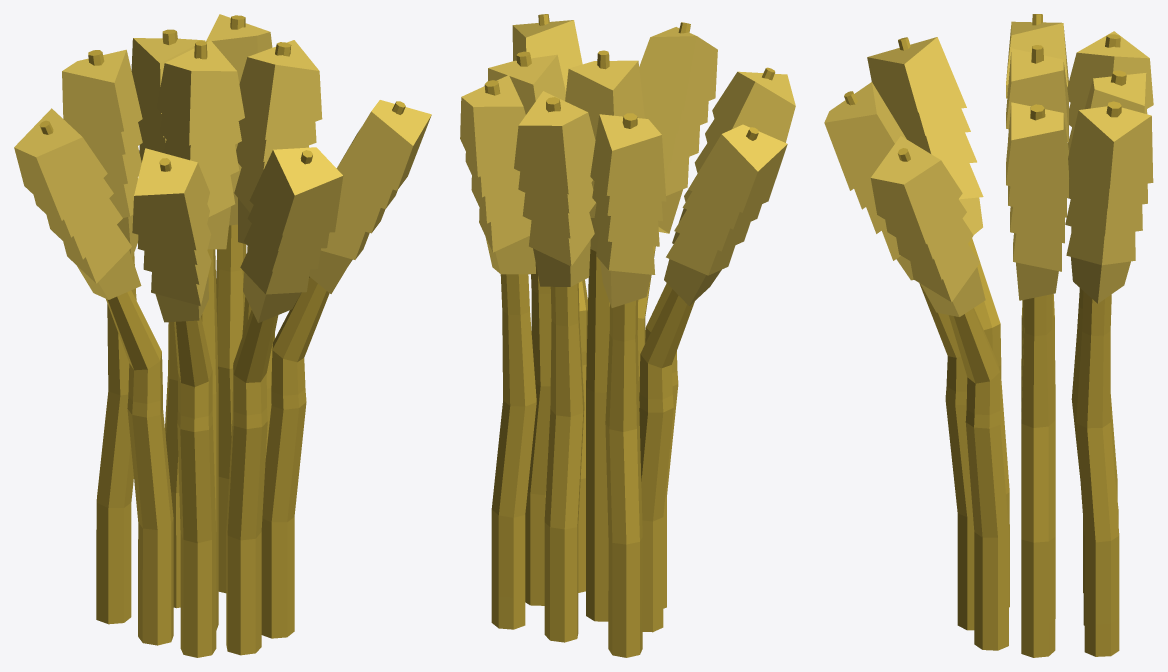
The model's file is Trigo.fbx.
3 renders of one model, left to right at view 1: azimuth 30°, elevation 25°; view 2: azimuth 150°, elevation 25°; view 3: azimuth 270°, elevation 25°, orthographic. The views are drawn at different scales.
Visible parts, largest first — view 1: Cylinder.003, Cylinder.006, Cylinder.004, Cylinder.007, Cube.007, Cylinder.005, Cube.006, Cube.005, Cube.004; view 2: Cube.004, Cube.007, Cube.005, Cylinder.003, Cylinder.005, Cylinder.006, Cube.006, Cylinder.004, Cylinder.007; view 3: Cube.005, Cylinder.007, Cube.006, Cylinder.006, Cylinder.004, Cylinder.005, Cube.007, Cube.004, Cylinder.003.
Part boxes in pixels (left/top/right/bottom): Cylinder.003: left=14, top=108, right=173, bottom=645; Cylinder.006: left=226, top=147, right=343, bottom=655; Cylinder.004: left=132, top=148, right=216, bottom=657; Cylinder.007: left=261, top=100, right=431, bottom=638; Cube.007: left=62, top=49, right=142, bottom=624; Cylinder.005: left=157, top=40, right=244, bottom=630; Cube.006: left=234, top=40, right=322, bottom=457; Cube.005: left=206, top=14, right=272, bottom=593; Cube.004: left=131, top=29, right=205, bottom=608; Cube.004: left=514, top=91, right=595, bottom=642; Cube.007: left=590, top=113, right=666, bottom=657; Cube.005: left=460, top=75, right=536, bottom=629; Cylinder.003: left=639, top=124, right=787, bottom=632; Cylinder.005: left=565, top=50, right=644, bottom=621; Cylinder.006: left=637, top=22, right=717, bottom=407; Cube.006: left=488, top=51, right=565, bottom=605; Cylinder.004: left=645, top=67, right=795, bottom=608; Cylinder.007: left=512, top=14, right=587, bottom=592; Cube.005: left=1065, top=101, right=1153, bottom=656; Cylinder.007: left=870, top=136, right=1008, bottom=650; Cube.006: left=1006, top=102, right=1068, bottom=657; Cylinder.006: left=824, top=82, right=974, bottom=630; Cylinder.004: left=867, top=37, right=1009, bottom=607; Cylinder.005: left=1006, top=45, right=1068, bottom=618; Cube.007: left=1067, top=31, right=1153, bottom=592; Cube.004: left=1071, top=70, right=1146, bottom=625; Cylinder.003: left=1006, top=14, right=1068, bottom=370.
Bounding box in the file's own units: 60.09 × 98.34 × 51.38.
